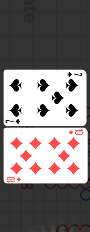10D: (68, 128, 85, 136)
7C: (66, 71, 84, 78)
